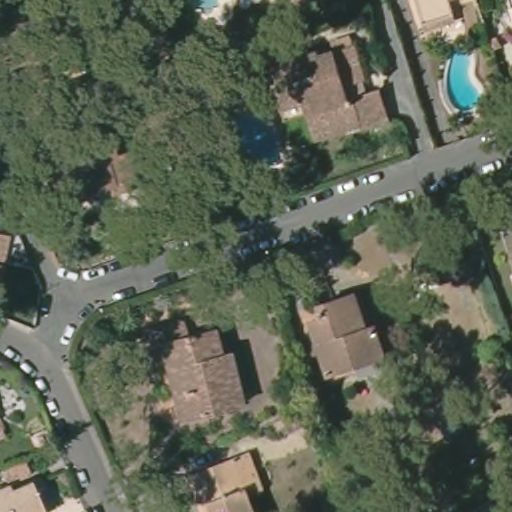pool: (435, 44, 492, 116), (181, 1, 231, 19)
